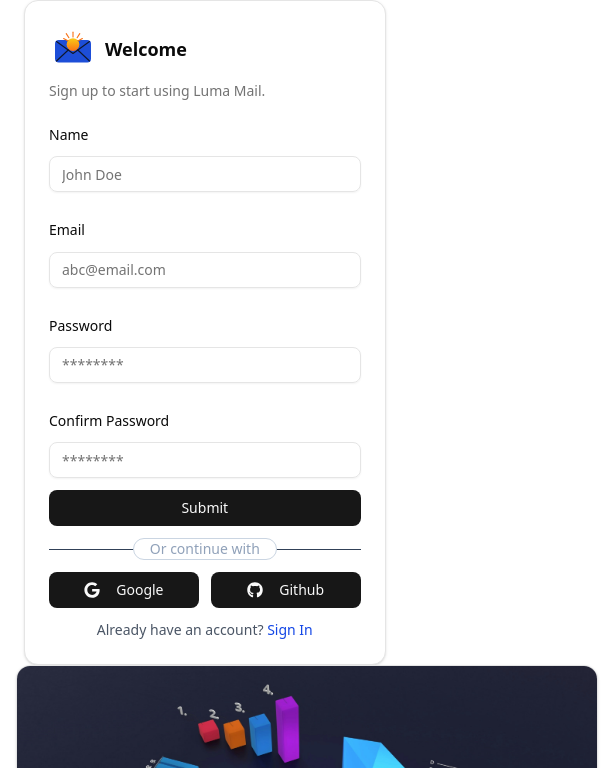
Test: SignUp Page › SignUp Component - Form Validation › shows validation error for passwords do not match
The width and height of the screenshot is (615, 768).
Type "password" into the field labelled "Password".
click(205, 365); type("password")  # box [49,347,361,383]
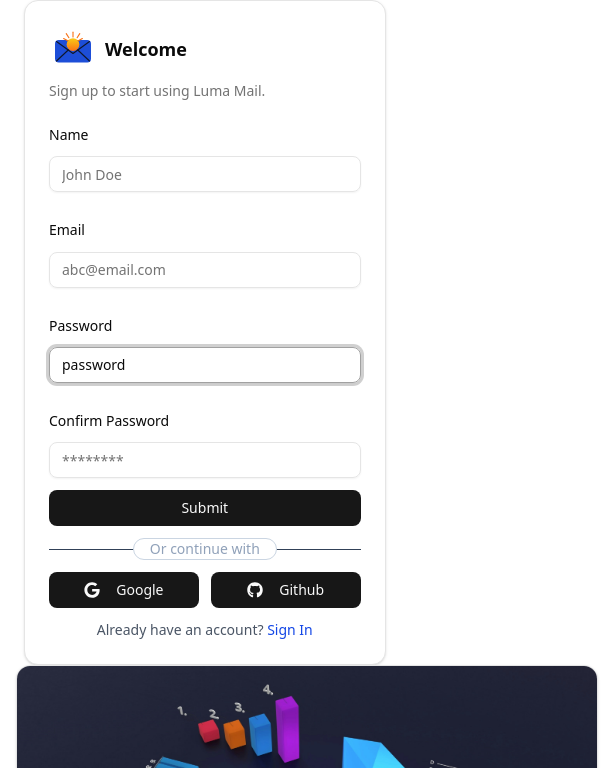
Type "password1" into the field labelled "Confirm Password".
click(205, 460); type("password1")  # box [49,442,361,478]
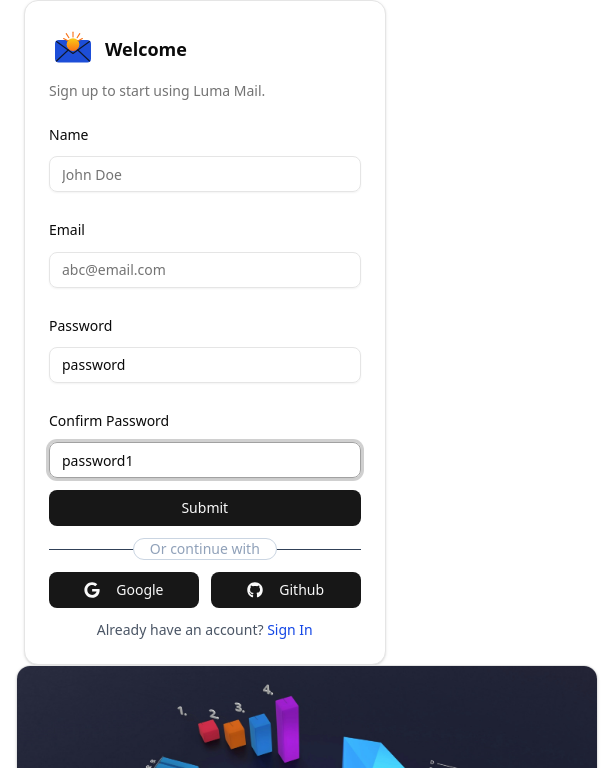
Click the button "Submit".
click(205, 508)  # box [49,490,361,526]
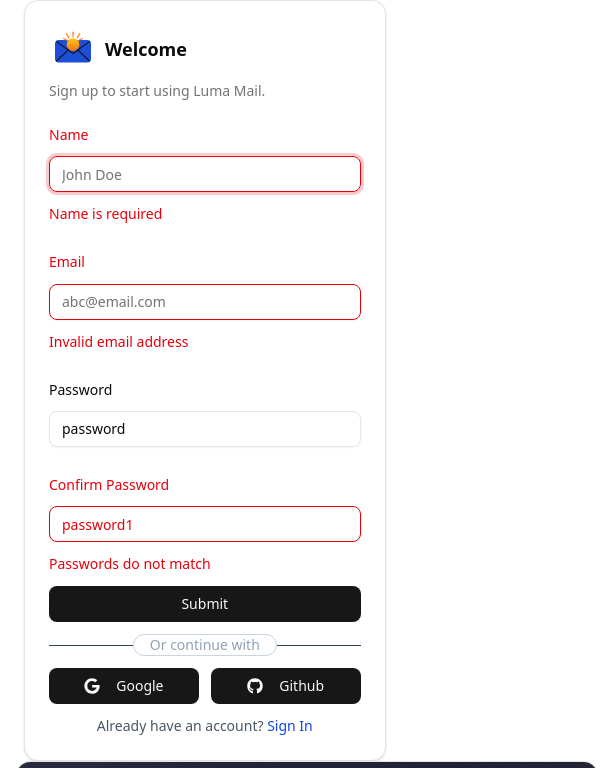
expect the text "Passwords do not match" is shown: met, box [49,554,211,573]
